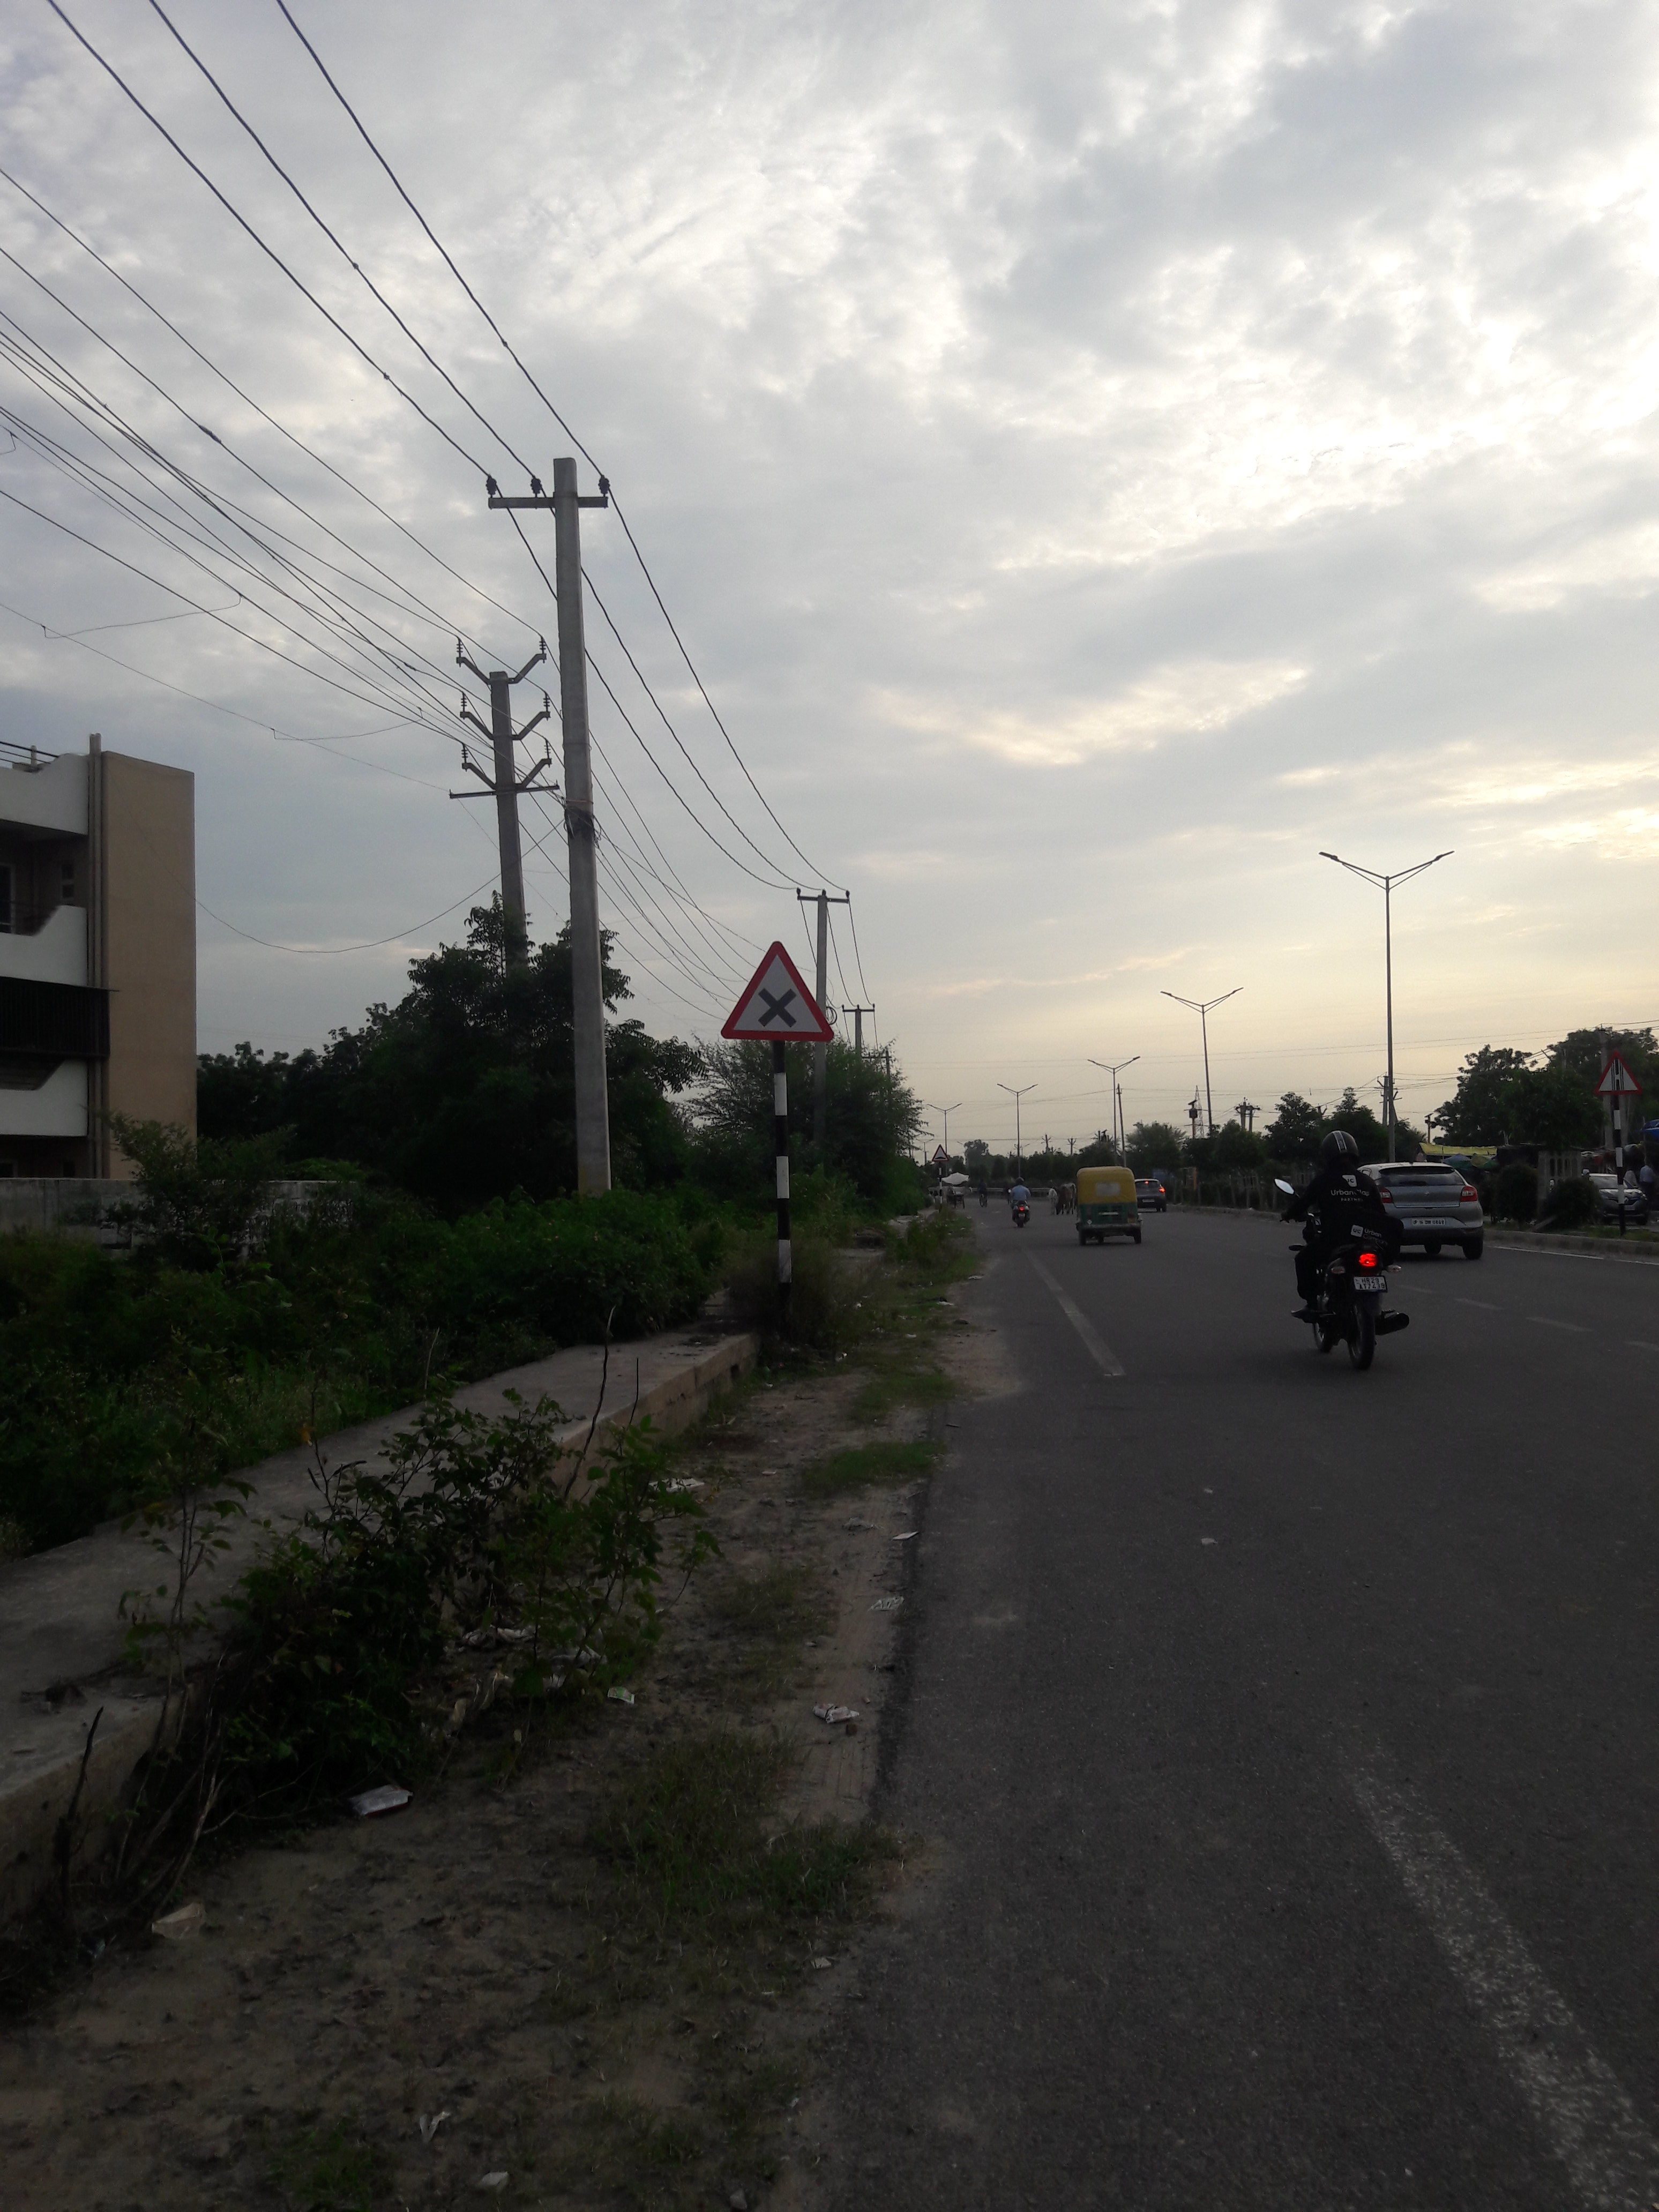traffic_sign: (720, 941, 833, 1047)
